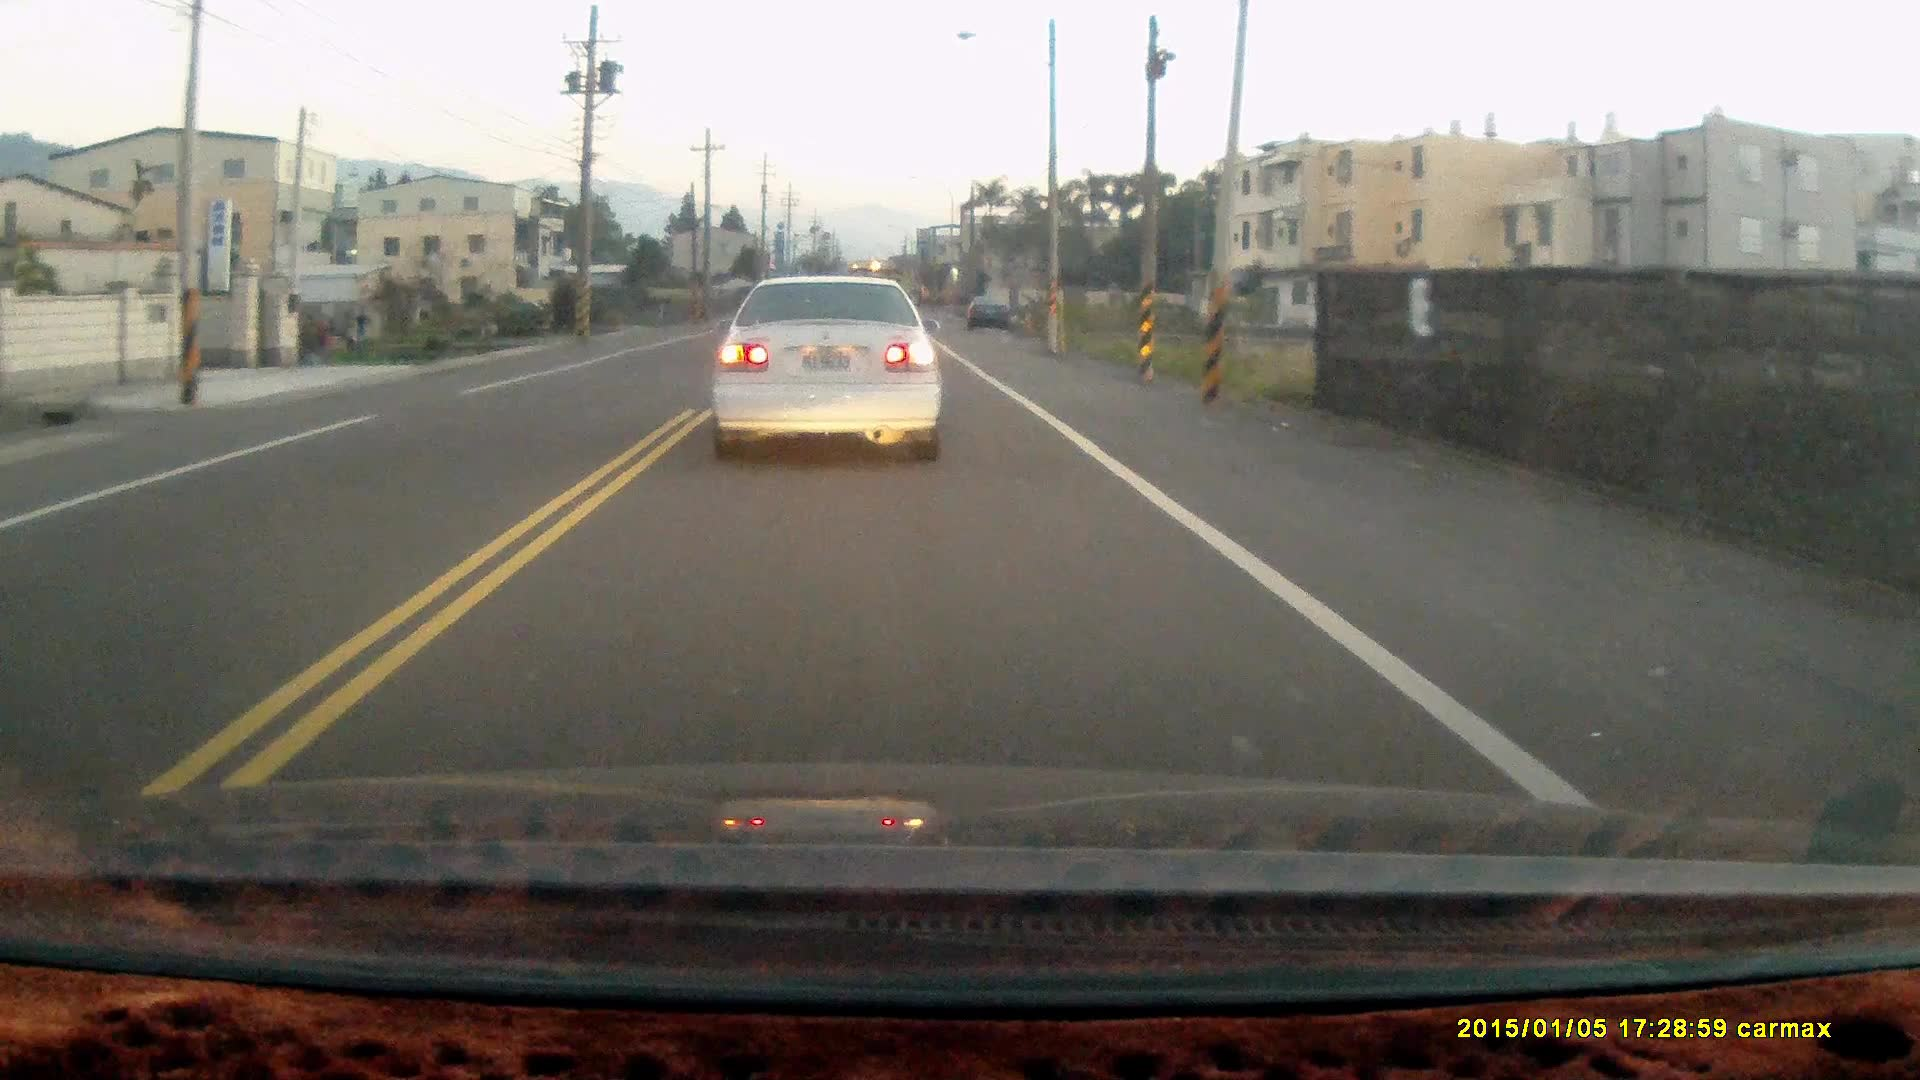vehicle: (713, 277, 949, 471), (967, 295, 1015, 336)
